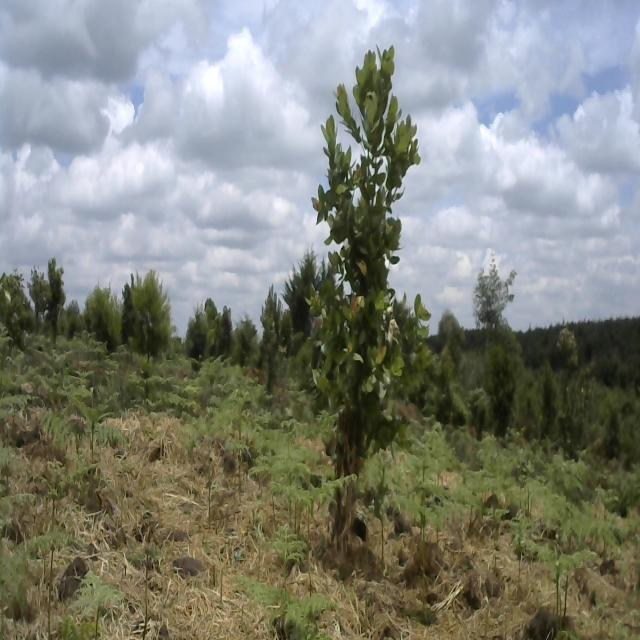cedrus: (128, 265, 175, 369), (253, 280, 292, 364), (283, 245, 323, 323)
other: (315, 38, 431, 533)
